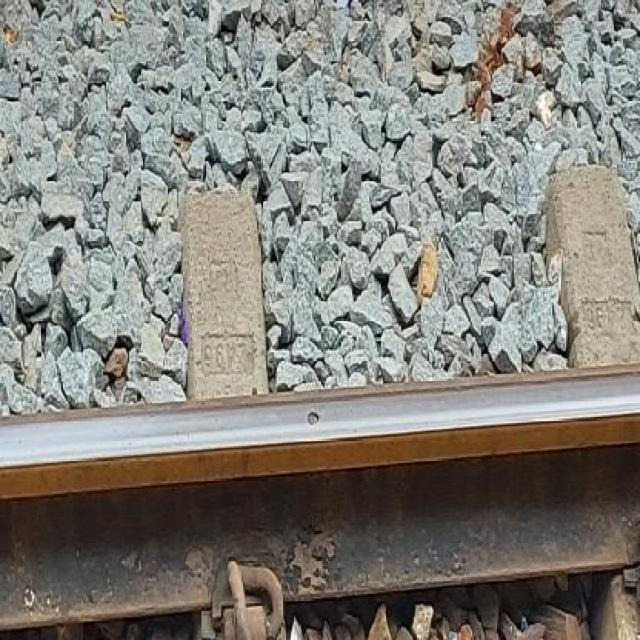defective: (6, 316, 640, 564)
